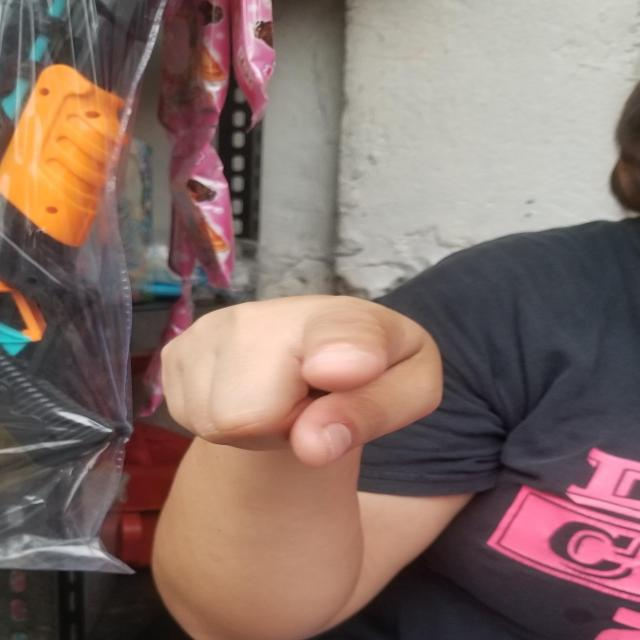Z: (160, 294, 445, 466)
